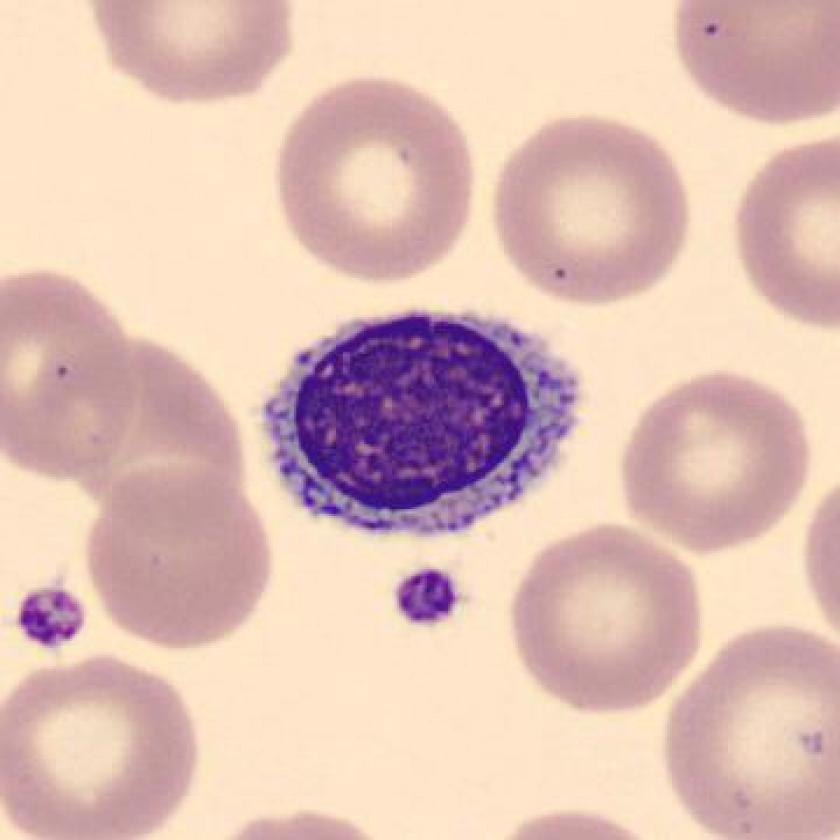lymphocyte: (232, 295, 603, 547)
platelets: (389, 565, 469, 635), (15, 582, 95, 651)
